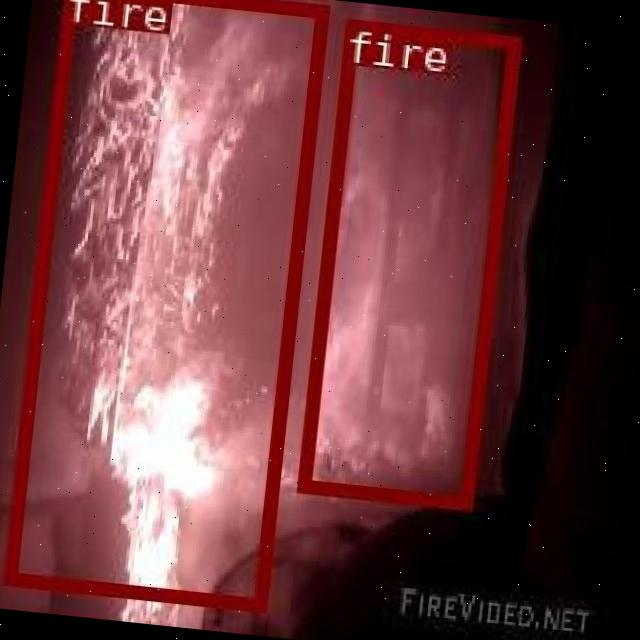fire: (1, 0, 327, 607), (294, 16, 519, 506)
